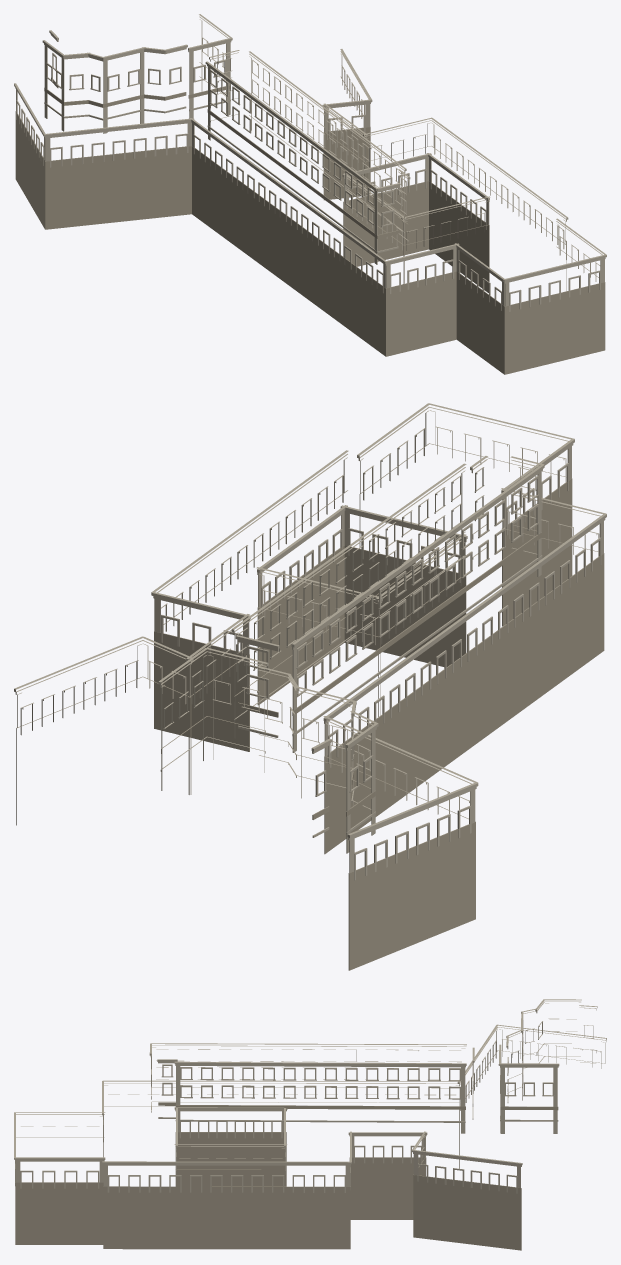
3 renders of one model, top to bottom at view 1: azimuth 30°, elevation 25°; view 2: azimuth 150°, elevation 25°; view 3: azimuth 270°, elevation 25°, orthographic. The views are drawn at different scales.
Visible parts, largest first — view 1: detail; view 2: detail; view 3: detail.
Boxes of the visible parts, x1,y1,x2,y2 form: detail: (14, 14, 606, 374); detail: (14, 403, 606, 970); detail: (14, 999, 606, 1250).
Bounding box in the file's own units: 46.21 × 20.53 × 83.19.
